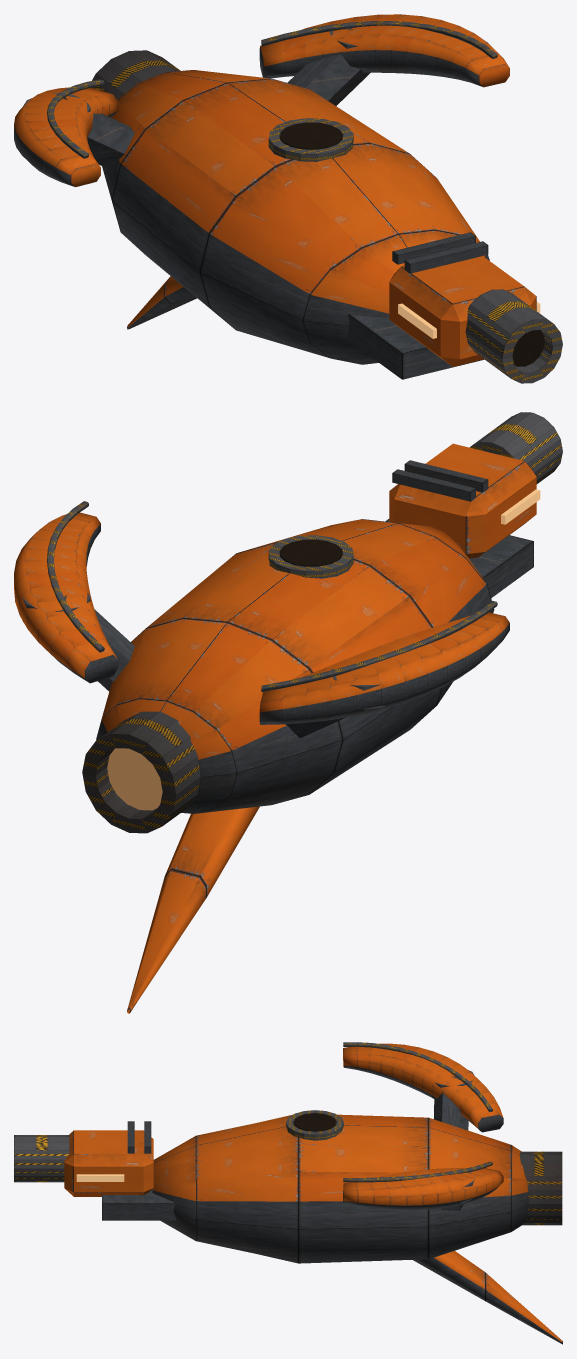
Rendered from pioneer-saturn-l02-laser.glb.
3 views of the same model, one above another, from view 1: azimuth 30°, elevation 25°; view 2: azimuth 150°, elevation 25°; view 3: azimuth 270°, elevation 25° (orthographic). The views are drawn at different scales.
Parts seen in each view (by area): view 1: Drone; view 2: Drone; view 3: Drone.
Part boxes in pixels (box(x1,y1,x2,y2)): Drone: box(14, 14, 562, 383); Drone: box(14, 412, 562, 1013); Drone: box(14, 1042, 562, 1344).
Size of the model in its own units: 0.9147 by 0.6652 by 1.42.
Materials: 3 (3 with a texture image).
